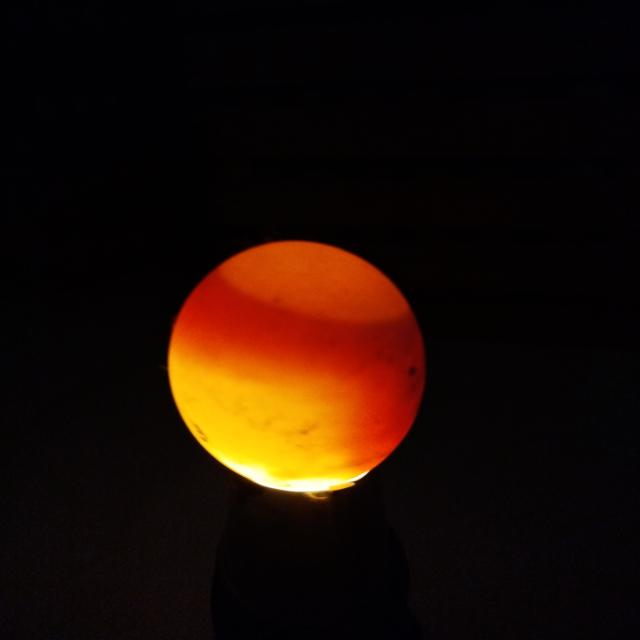Area Infectada: (407, 366, 417, 376)
